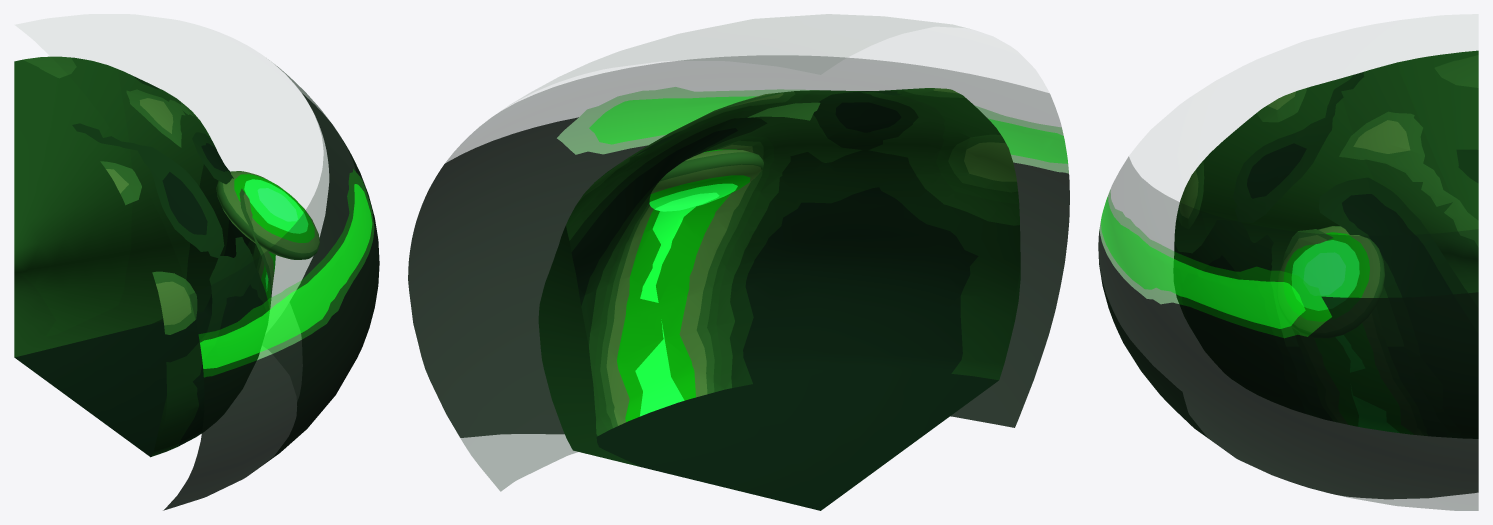
Rendered from glass_globe_br_201.glb.
3 renders of one model, left to right at view 1: azimuth 30°, elevation 25°; view 2: azimuth 150°, elevation 25°; view 3: azimuth 270°, elevation 25°, orthographic. The views are drawn at different scales.
Visible parts, largest first — view 1: glass_globe_br; view 2: glass_globe_br; view 3: glass_globe_br.
Part boxes in pixels (left/top/right/bottom): glass_globe_br: left=14, top=56, right=379, bottom=510; glass_globe_br: left=408, top=14, right=1069, bottom=510; glass_globe_br: left=1098, top=50, right=1478, bottom=510.
Size of the model in its own units: 21.88 by 25.07 by 22.88.
